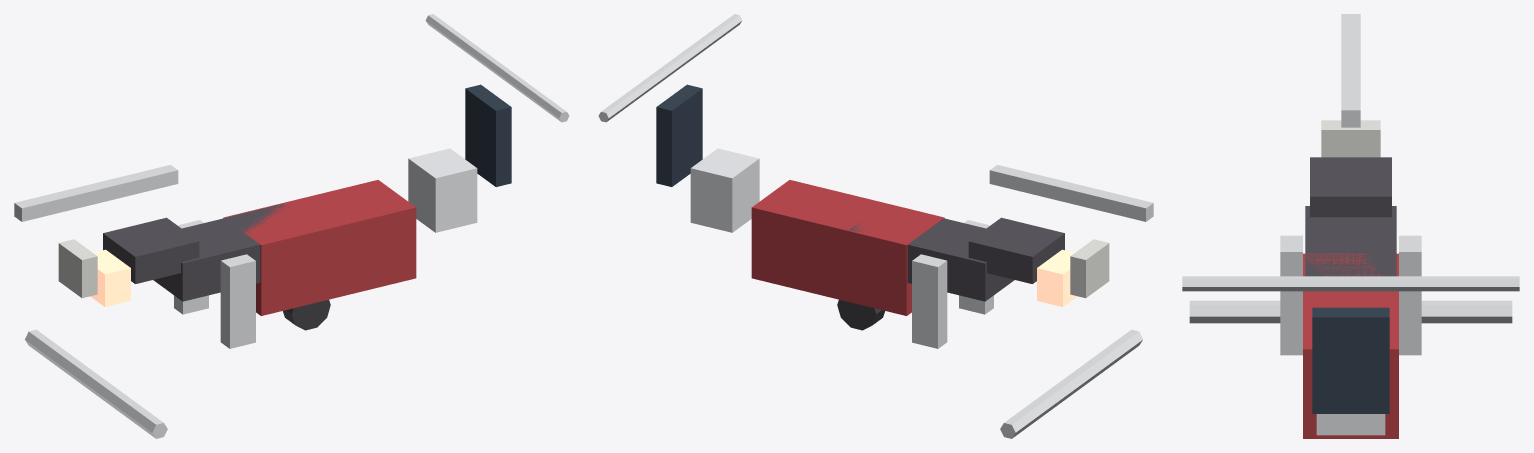
The model's file is SM_Veh_Bicycle.fbx.
3 renders of one model, left to right at view 1: azimuth 30°, elevation 25°; view 2: azimuth 150°, elevation 25°; view 3: azimuth 270°, elevation 25°, orthographic. The views are drawn at different scales.
Visible parts, largest first — view 1: SM_Veh_Bicycle; view 2: SM_Veh_Bicycle; view 3: SM_Veh_Bicycle.
Boxes of the visible parts, <box> form: SM_Veh_Bicycle: <box>14,14,569,438</box>; SM_Veh_Bicycle: <box>598,14,1153,438</box>; SM_Veh_Bicycle: <box>1182,14,1519,438</box>.
Bounding box in the file's own units: 186 × 88.8 × 84.33.
